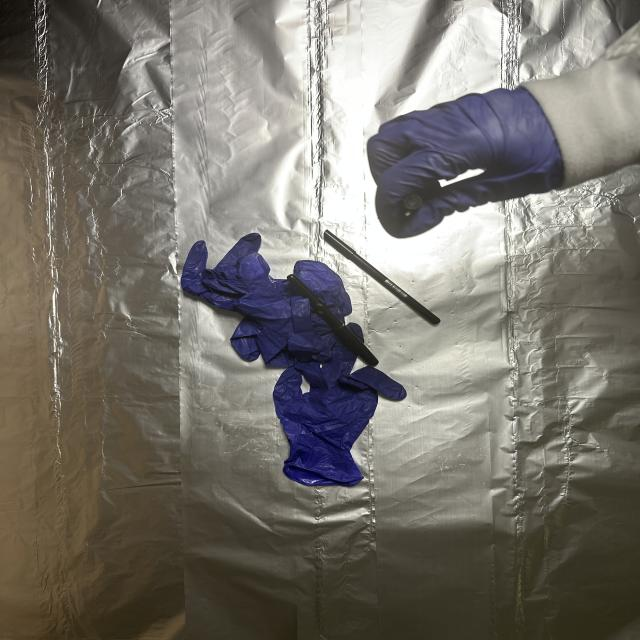gloves_contaminated: (368, 88, 564, 238)
